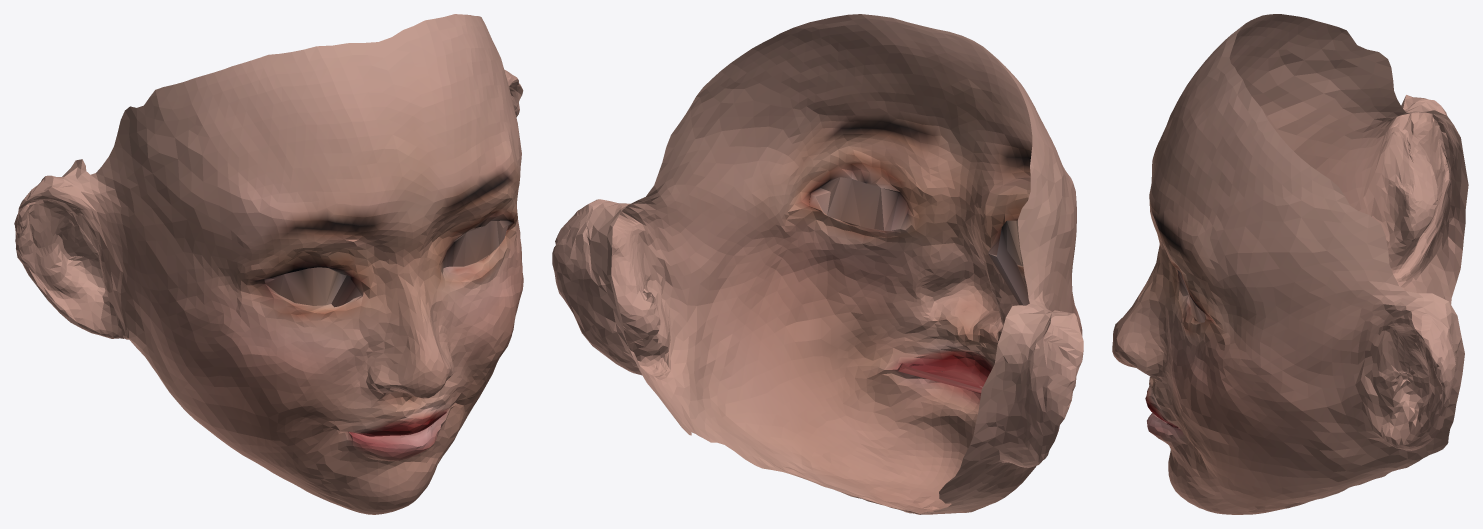
File: seed0001.obj
3 renders of one model, left to right at view 1: azimuth 30°, elevation 25°; view 2: azimuth 150°, elevation 25°; view 3: azimuth 270°, elevation 25°, orthographic. The views are drawn at different scales.
Bounding box in the file's own units: 240 × 210 × 149.
